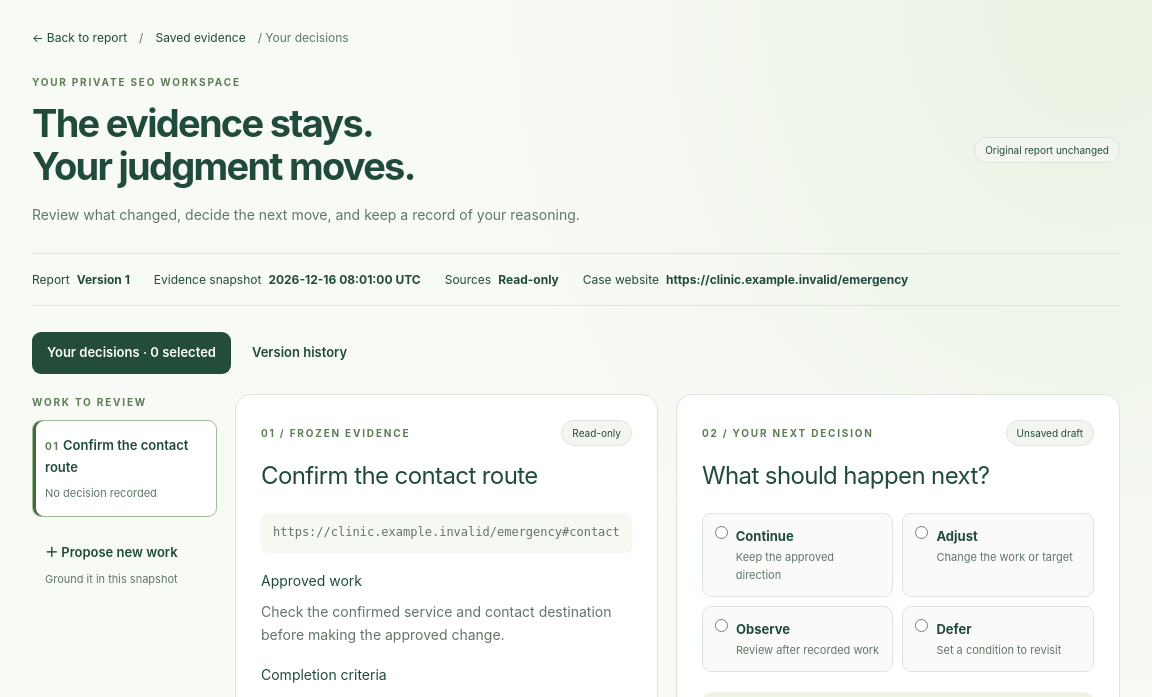
adds and removes independent new work without changing originals
Expected: the heading "What should happen next?" is shown, [702,461,989,490]
Click the button "＋ Propose new work Ground it in this snapshot": click(124, 565) [32,527,217,603]
(page scrolled)
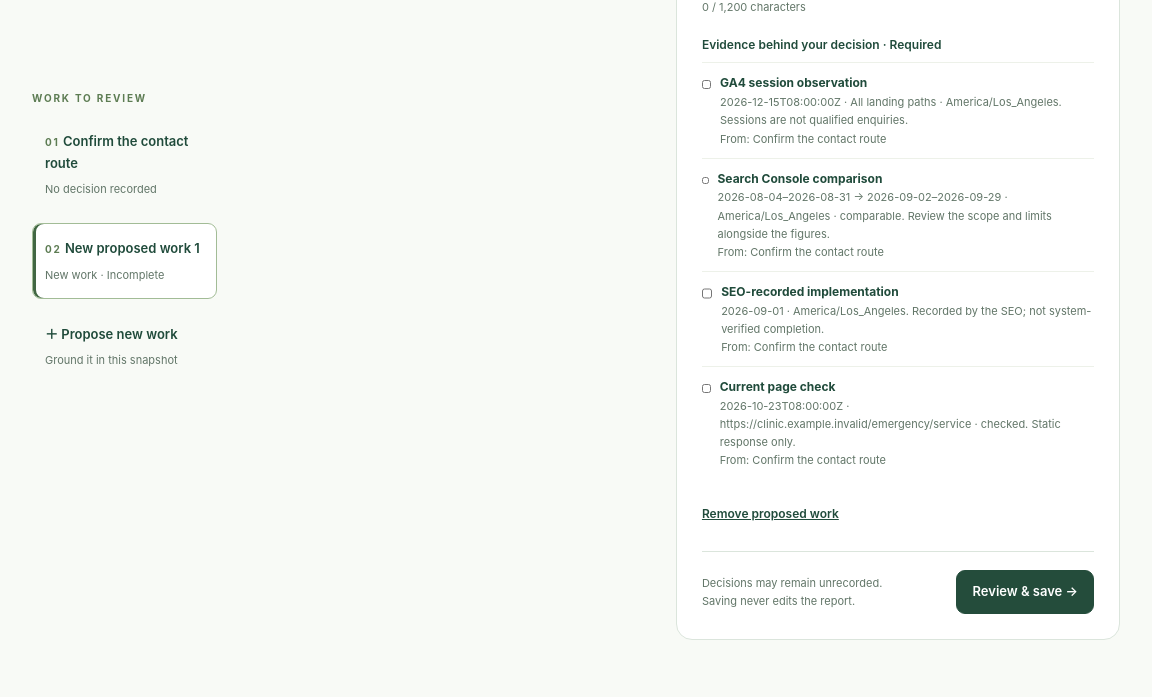
Now the radio button is gone
Click the button "Remove proposed work": click(770, 514) [702,498,839,529]
(page scrolled)
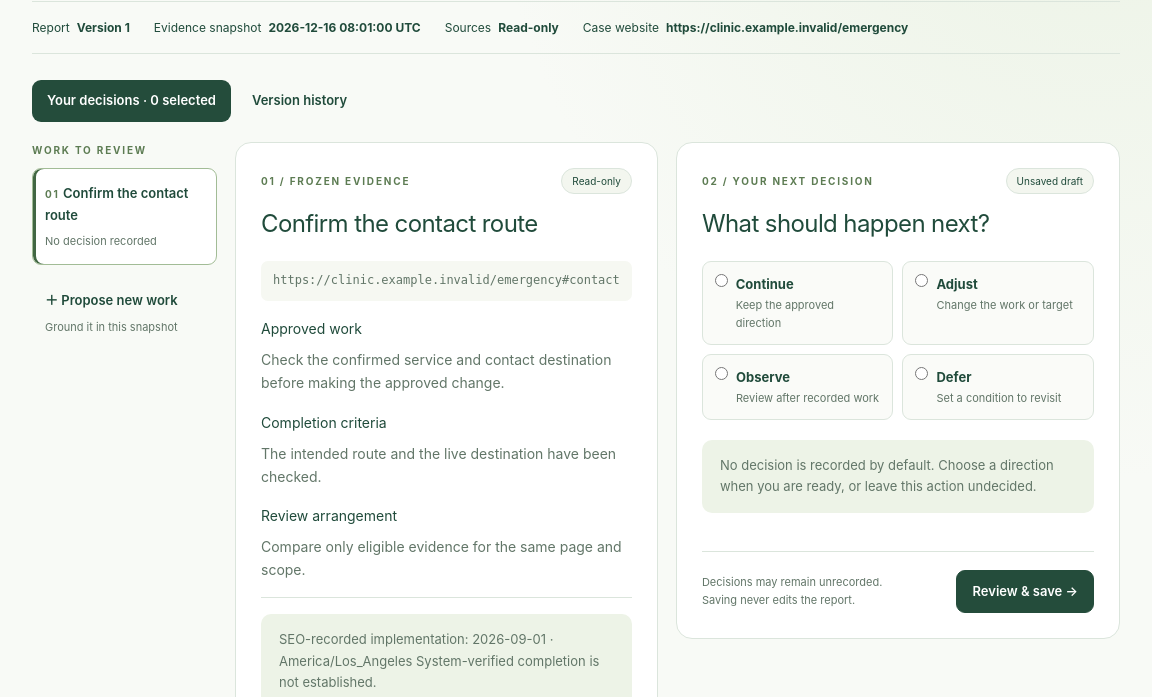
Now the radio button labelled "Continue Keep the approved direction" is not checked, box [715,274,728,287]
